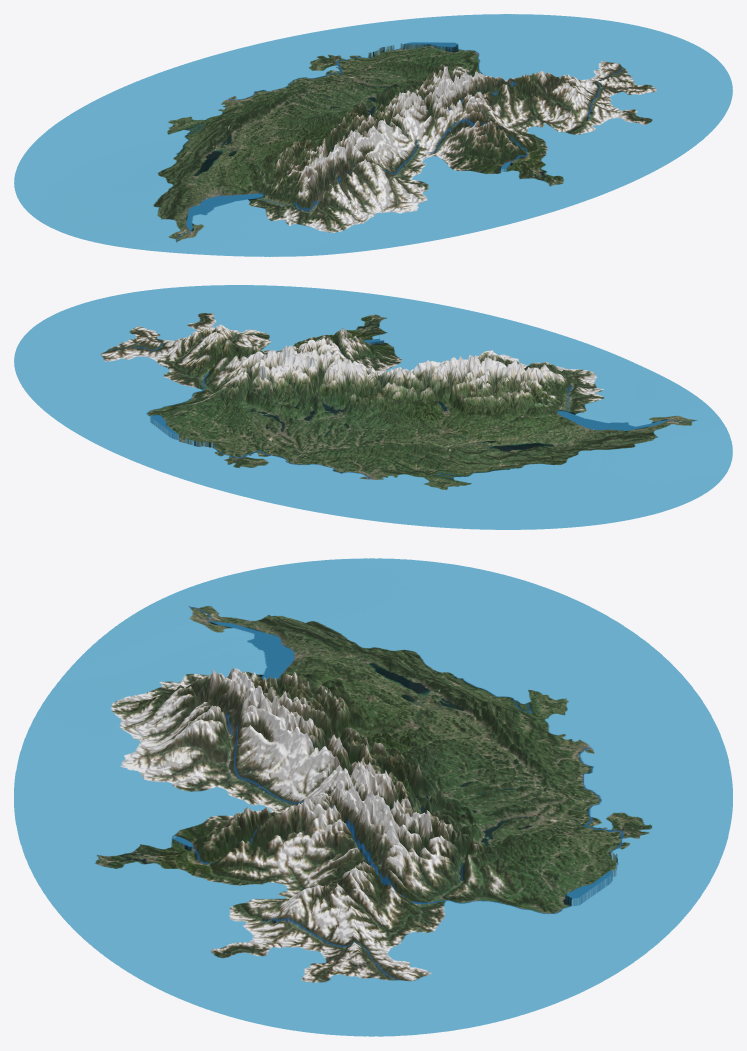
File: CHE-previa-terrain.glb
3 views of the same model, one above another, from view 1: azimuth 30°, elevation 25°; view 2: azimuth 150°, elevation 25°; view 3: azimuth 270°, elevation 25° (orthographic). The views are drawn at different scales.
Visible parts, largest first — view 1: Suíça; view 2: Suíça; view 3: Suíça.
Boxes of the visible parts, x1=… form: Suíça: x1=14, y1=14, x2=732, y2=256; Suíça: x1=14, y1=285, x2=732, y2=529; Suíça: x1=14, y1=558, x2=732, y2=1036.
Bounding box in the file's own units: 2.29 × 0.1373 × 1.45.
Materials: 1 (1 with a texture image).
